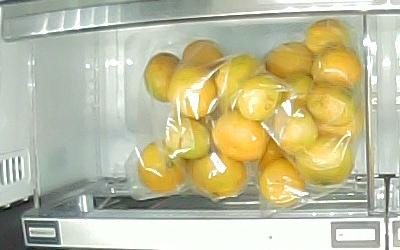tangerine_vinyl: (292, 135, 355, 184), (212, 111, 266, 161), (217, 55, 266, 109), (171, 66, 218, 119), (192, 152, 247, 197), (271, 104, 319, 153), (139, 142, 185, 193), (259, 158, 305, 204), (237, 75, 284, 120), (312, 47, 361, 89), (307, 84, 354, 126), (144, 52, 182, 103), (165, 117, 211, 159), (265, 42, 314, 79), (305, 20, 350, 54), (182, 40, 224, 71)
